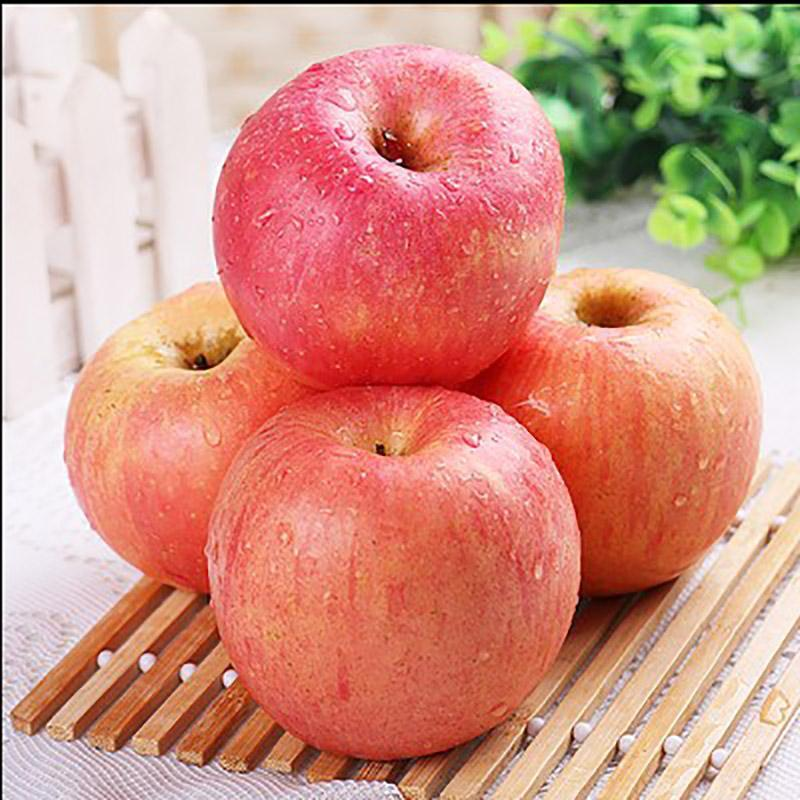apple: (204, 384, 586, 757), (214, 45, 570, 393), (473, 268, 764, 597), (61, 278, 309, 606)
